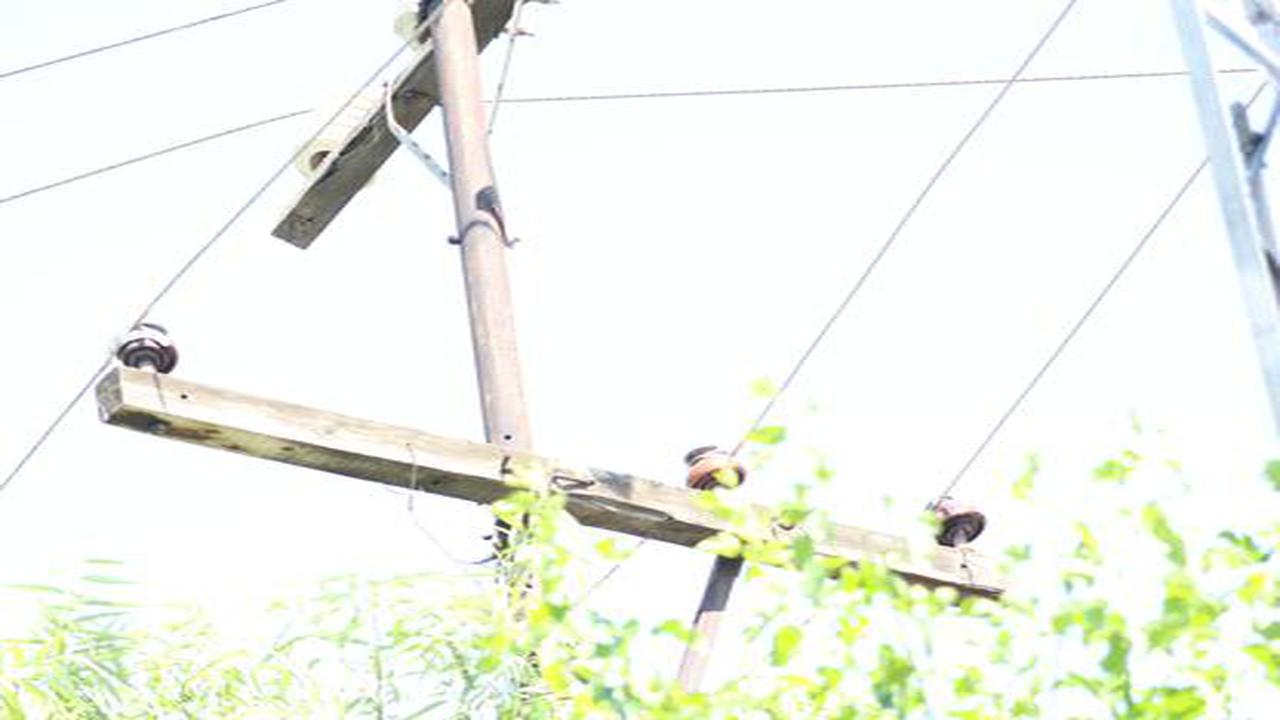defect_pin: (112, 312, 181, 380)
insulator_pin: (920, 492, 991, 555), (677, 439, 749, 495)
